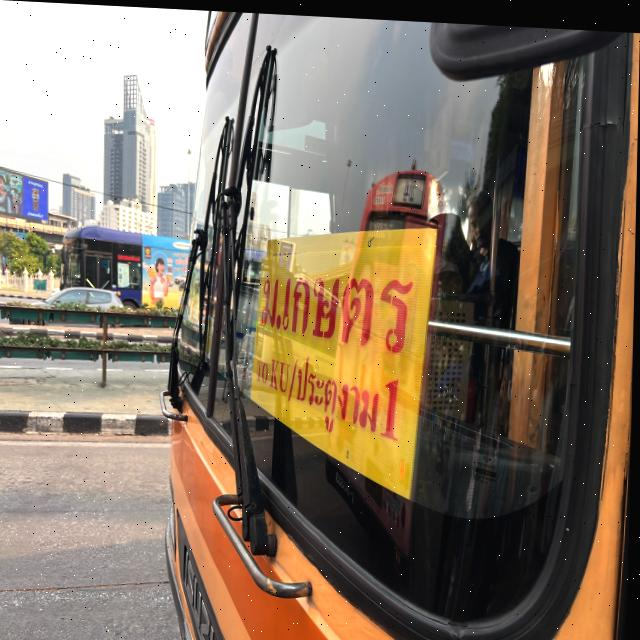BMTA-bus: (157, 7, 640, 640)
Destination-Sign-Extra-Bus-Expressway: (249, 211, 442, 501)
TSB-Bus: (57, 224, 195, 321)
